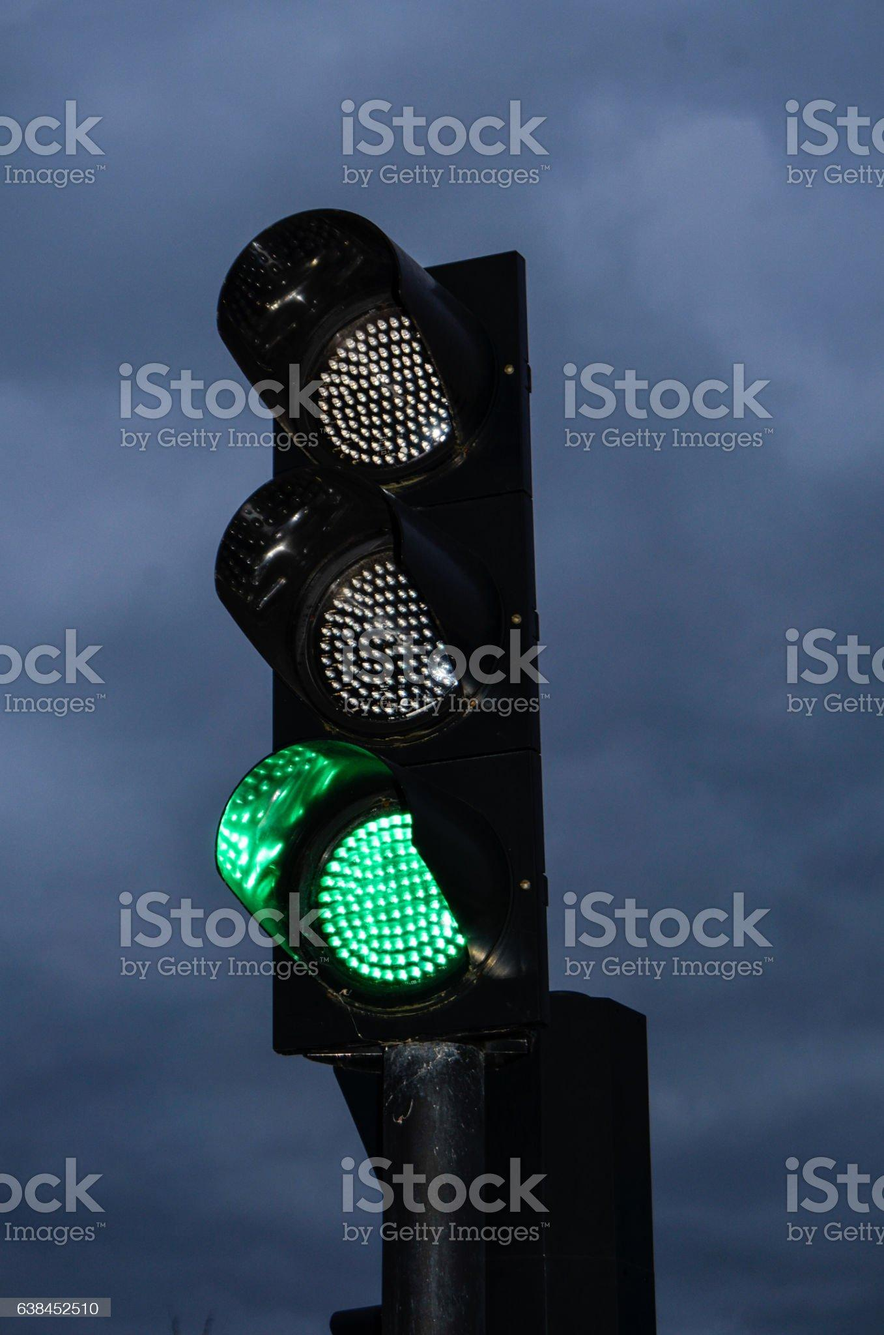Traffic light green: (192, 166, 583, 1040)
